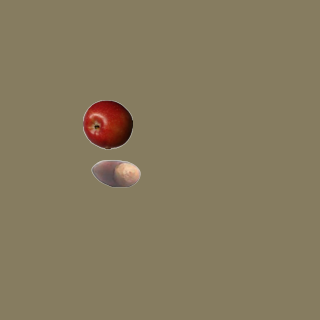Apple Braeburn: (82, 99, 132, 149)
Hazelnut: (90, 148, 140, 198)
